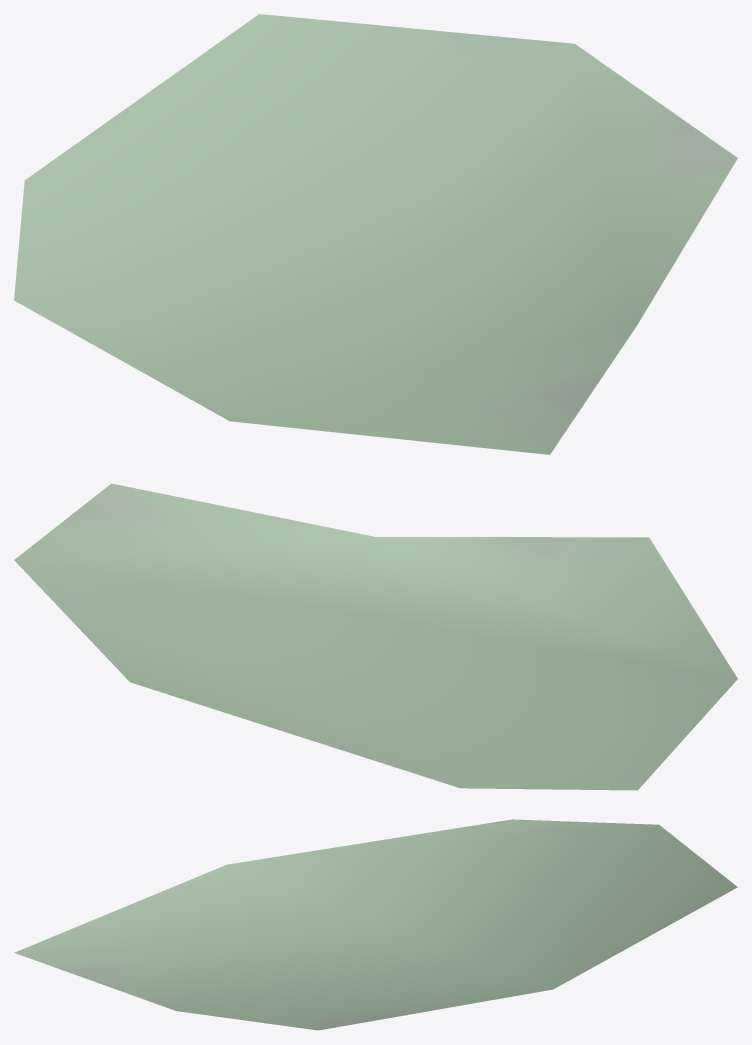
Rendered from TROLLHOLE02_HOLECAP56.fbx.
3 views of the same model, one above another, from view 1: azimuth 30°, elevation 25°; view 2: azimuth 150°, elevation 25°; view 3: azimuth 270°, elevation 25° (orthographic). The views are drawn at different scales.
Visible parts, largest first — view 1: TROLLHOLE02_HOLECAP56; view 2: TROLLHOLE02_HOLECAP56; view 3: TROLLHOLE02_HOLECAP56.
Part boxes in pixels (x1,y1,x2,y2): TROLLHOLE02_HOLECAP56: (14, 14, 737, 454); TROLLHOLE02_HOLECAP56: (14, 483, 737, 790); TROLLHOLE02_HOLECAP56: (14, 819, 737, 1030).
Bounding box in the file's own units: 19402 × 3795 × 21624.
Materials: 1 (1 with a texture image).
